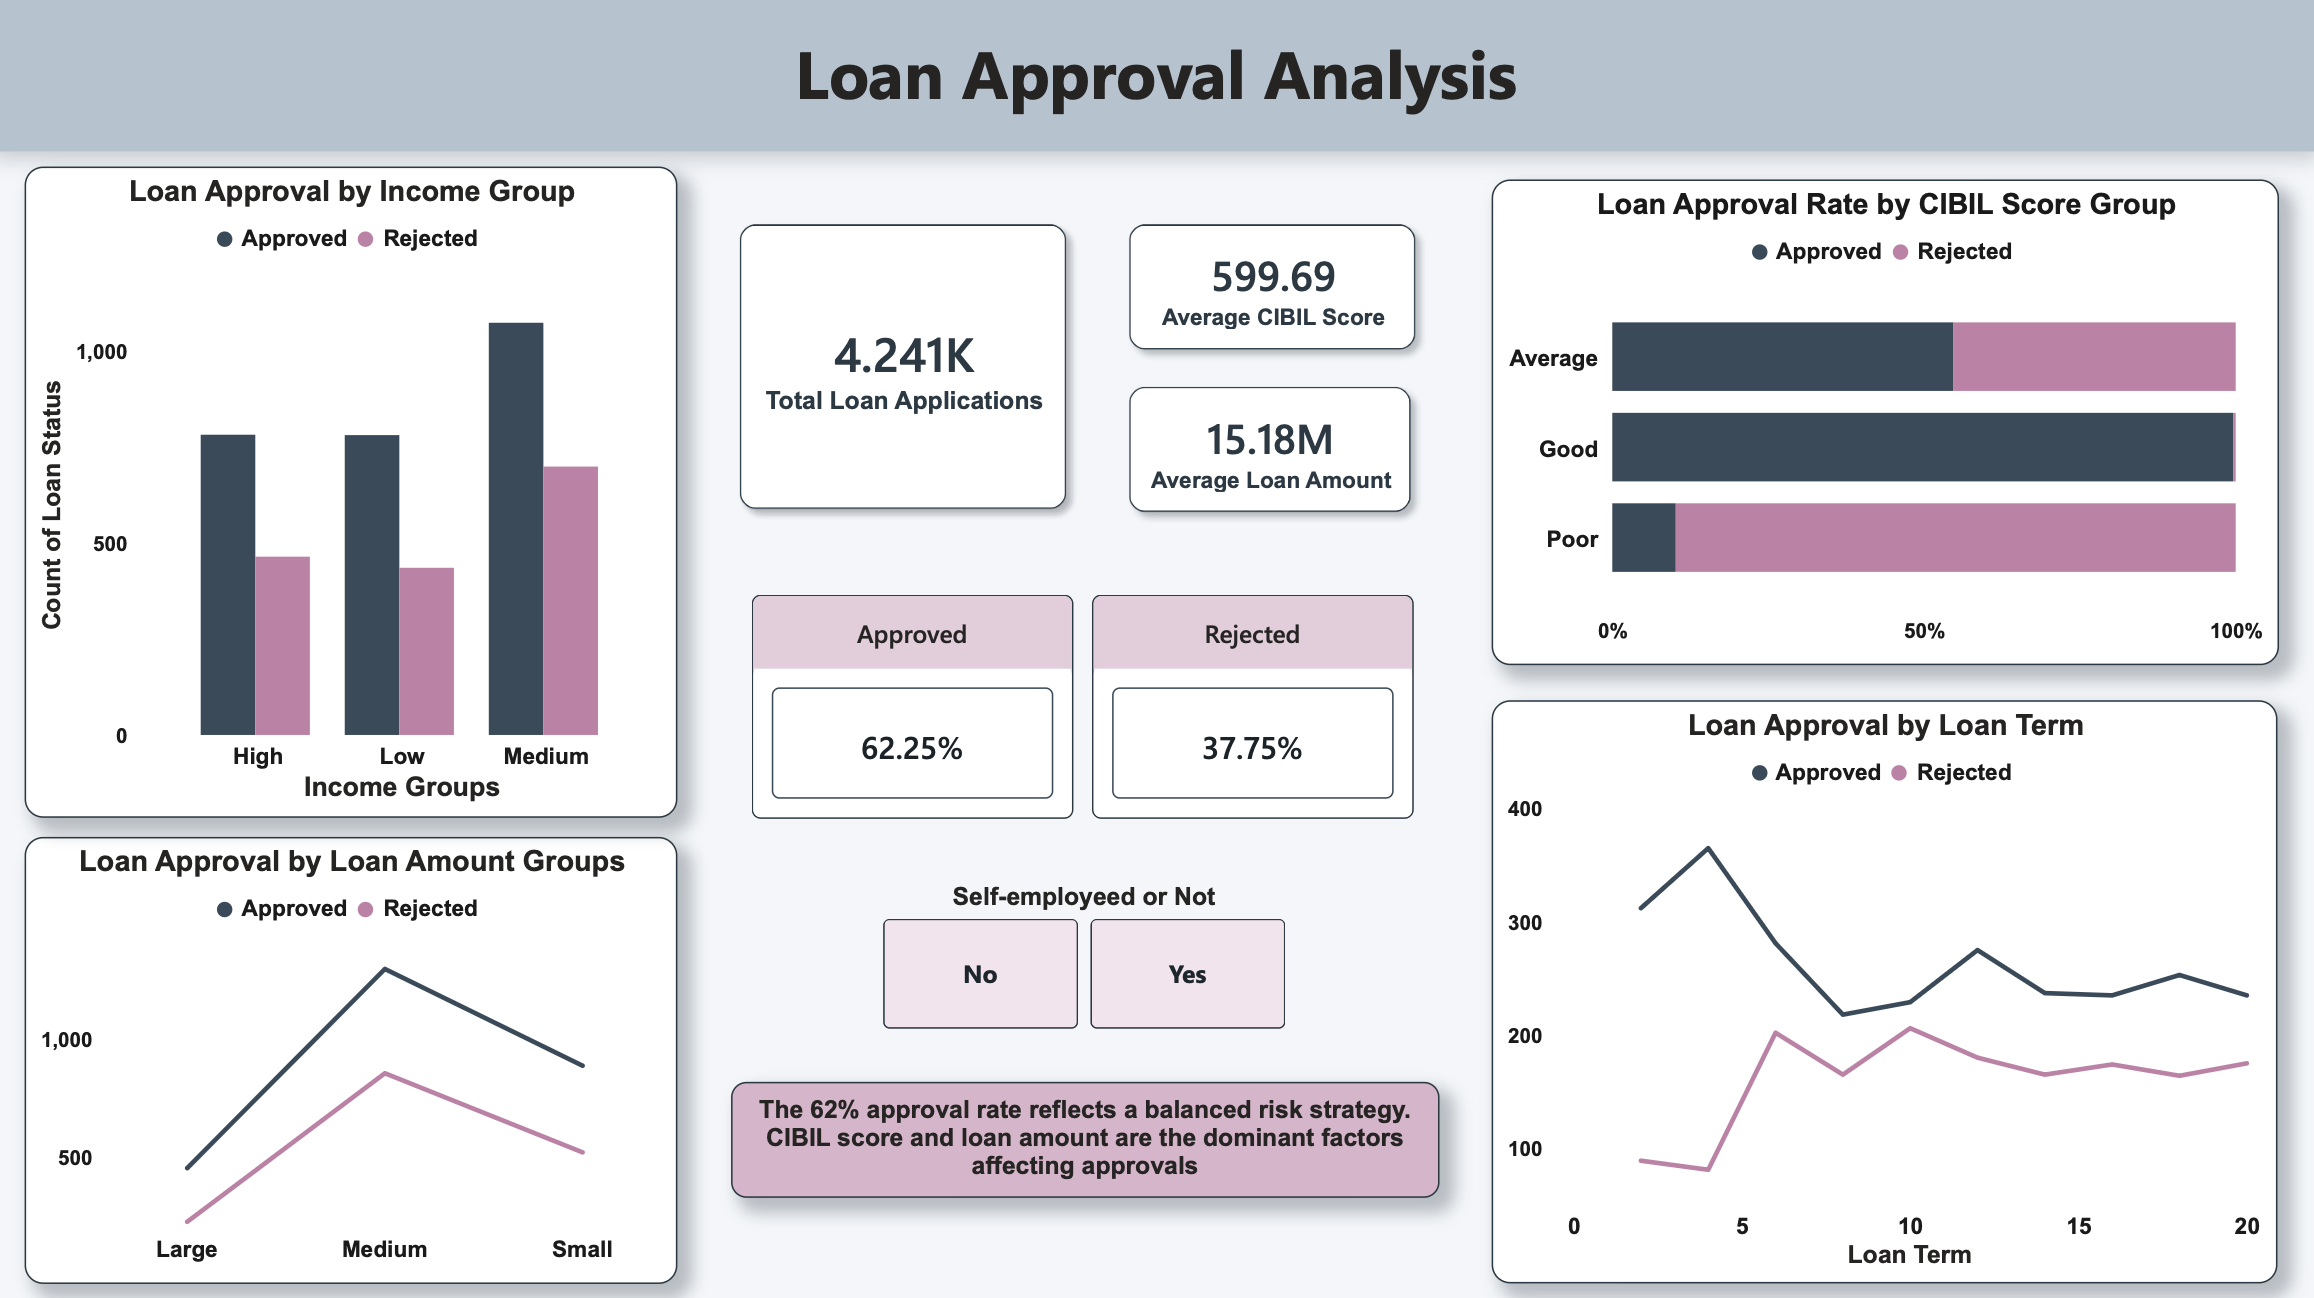

What the dashboard file says about the page in this screenshot:
{"tool":"powerbi","page":{"name":"Duplicate of Page 1","canvas":[1500,850],"ordinal":0},"visuals":[{"type":"textbox","box":[0,0,1500,101.8],"z":0},{"type":"cardVisual","fields":{"Data":["Count(loan_approval_dataset.loan_id)"]},"box":[451.8,120.3,269.1,242.7],"z":1000,"group":"g1"},{"type":"hundredPercentStackedBarChart","title":"Loan Approval Rate by CIBIL Score Group","fields":{"Category":["loan_approval_dataset.Cibil Score Groups","loan_approval_dataset. cibil_score"],"Y":["CountNonNull(loan_approval_dataset. loan_status)"],"Series":["loan_approval_dataset. loan_status"]},"box":[966.5,120.7,509,314],"z":1000},{"type":"lineChart","title":"Loan Approval by Loan Amount Groups","fields":{"Category":["loan_approval_dataset.Loan Amount Groups","loan_approval_dataset. loan_amount"],"Y":["CountNonNull(loan_approval_dataset. loan_status)"],"Series":["loan_approval_dataset. loan_status"]},"box":[18,545.5,421.8,289.1],"z":2000},{"type":"textbox","box":[475,704,458,75],"z":3000},{"type":"cardVisual","fields":{"Rows":["loan_approval_dataset.loan_status"],"Data":["loan_approval_dataset.total"]},"box":[484,363,439,195],"z":4000},{"type":"group","id":"g1","title":"Group 1","box":[451.8,120.3,495.2,244.7],"z":5000},{"type":"clusteredColumnChart","title":"Loan Approval by Income Group","fields":{"Category":["Loan Approval.Income Groups","loan_approval_dataset. income_annum"],"Y":["CountNonNull(loan_approval_dataset. loan_status)"],"Series":["loan_approval_dataset. loan_status"]},"box":[18,111,421.8,420.9],"z":6000},{"type":"lineChart","title":"Loan Approval by Loan Term","fields":{"Category":["loan_approval_dataset. loan_term"],"Y":["CountNonNull(loan_approval_dataset. loan_status)"],"Series":["loan_approval_dataset. loan_status"]},"box":[967,457,508.2,377.3],"z":7000},{"type":"cardVisual","fields":{"Data":["loan_approval_dataset.Measure"]},"box":[704,121,243,139],"z":8000,"group":"g1"},{"type":"advancedSlicerVisual","title":"Self-employeed or Not","fields":{"Values":["loan_approval_dataset. self_employed"]},"box":[569,575,270,99],"z":8000},{"type":"cardVisual","fields":{"Data":["loan_approval_dataset.Av_Loan"]},"box":[704,226,240,139],"z":9001,"group":"g1"}]}

Visuals, with their boxes in screenshot pixels (x1, y1, x2, y2), scaled from the page's 1500x850 canvas onto the 2314x1298 screenshot:
textbox: crop(0, 0, 2313, 155)
cardVisual - Count(loan_approval_dataset.loan_id): crop(697, 184, 1112, 554)
"Loan Approval Rate by CIBIL Score Group" hundredPercentStackedBarChart: crop(1491, 184, 2276, 664)
"Loan Approval by Loan Amount Groups" lineChart: crop(28, 833, 678, 1274)
textbox: crop(733, 1075, 1439, 1190)
cardVisual - loan_approval_dataset.loan_status x loan_approval_dataset.total: crop(747, 554, 1424, 852)
"Group 1" group: crop(697, 184, 1461, 557)
"Loan Approval by Income Group" clusteredColumnChart: crop(28, 170, 678, 812)
"Loan Approval by Loan Term" lineChart: crop(1492, 698, 2276, 1274)
cardVisual - loan_approval_dataset.Measure: crop(1086, 185, 1461, 397)
"Self-employeed or Not" advancedSlicerVisual: crop(878, 878, 1294, 1029)
cardVisual - loan_approval_dataset.Av_Loan: crop(1086, 345, 1456, 557)
